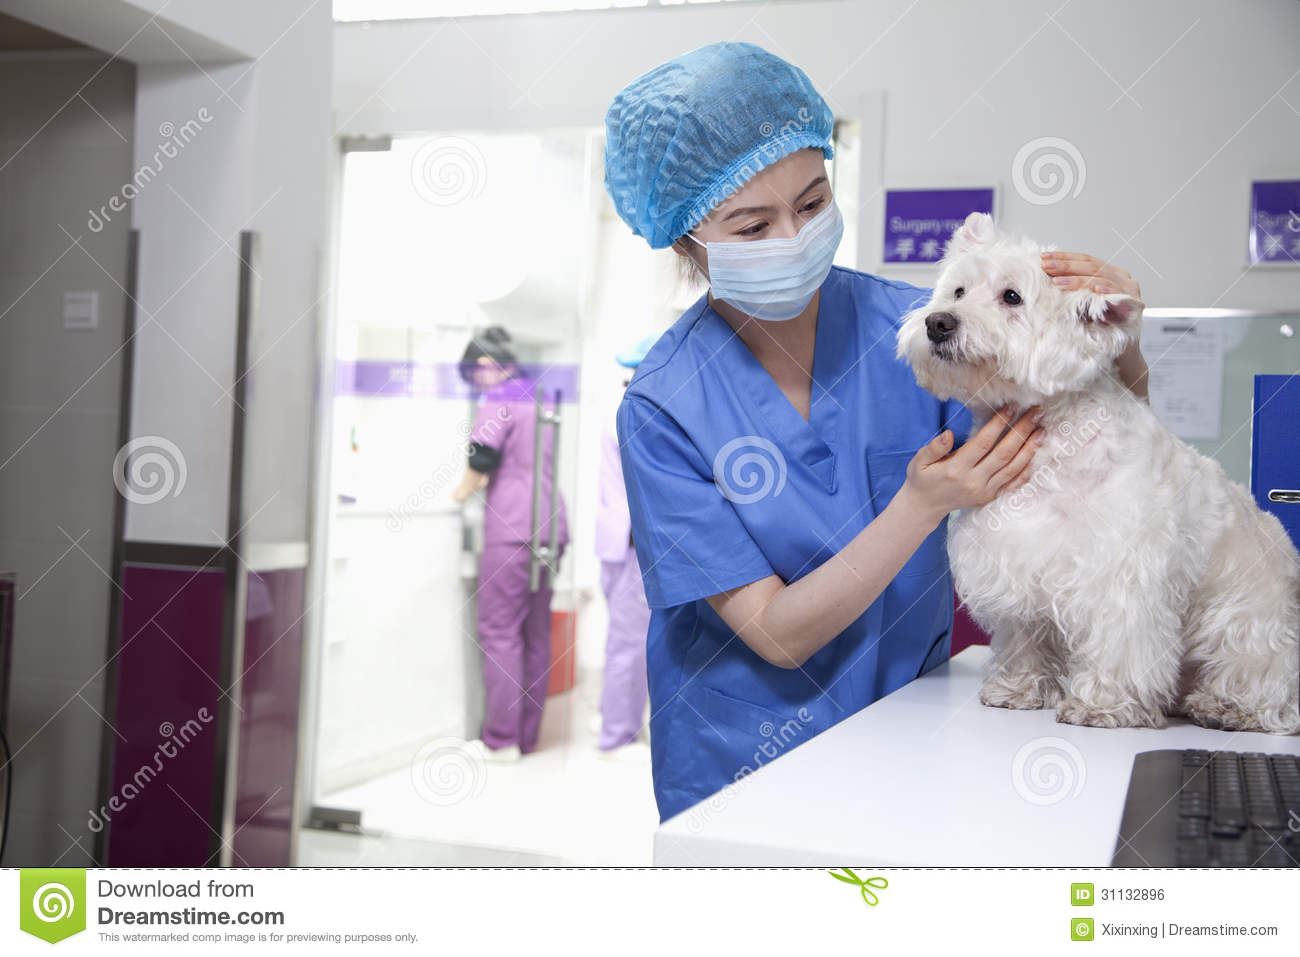mask: (692, 221, 857, 329)
